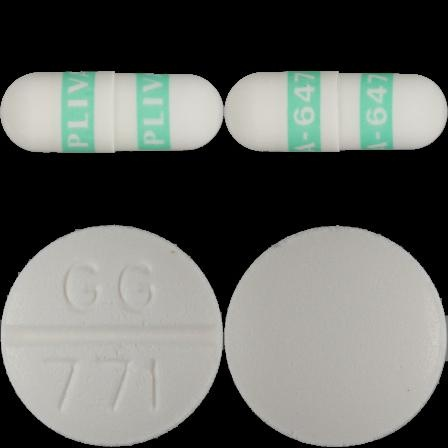63187-233: (0, 0, 224, 224)
